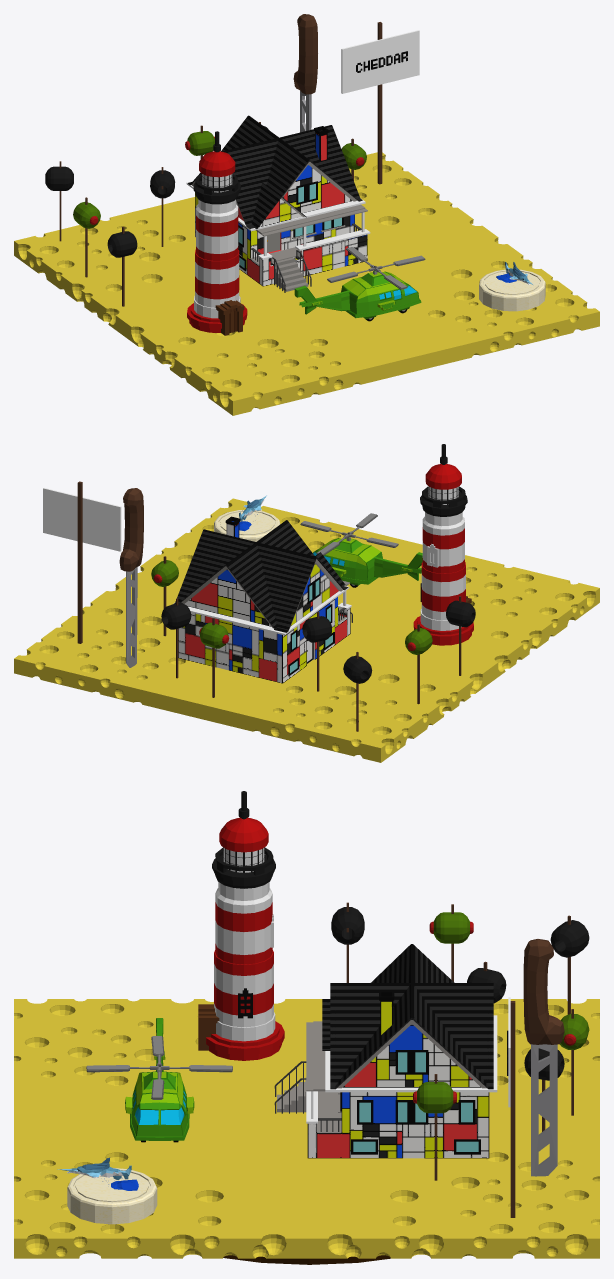
The picture shows the model from 3 angles, top to bottom: view 1: azimuth 30°, elevation 25°; view 2: azimuth 150°, elevation 25°; view 3: azimuth 270°, elevation 25°; orthographic projection. The views are drawn at different scales.
Parts seen in each view (by area): view 1: Cube.022, Cube.840, OBJRANDOM_LIGHTHOUSE, Cube.023, VEHICLES_HELICOPTER, Cylinder.016, Cube.024, Sphere.017, Sphere.016, Sphere.020, Sphere.018, Sphere.022 (+1 smaller); view 2: Cube.022, Cube.840, OBJRANDOM_LIGHTHOUSE, Cube.023, VEHICLES_HELICOPTER, Cube.024, Cylinder.016, Sphere.021, Sphere.020, Sphere.017, Sphere.016, Sphere.022 (+2 smaller); view 3: Cube.022, Cube.840, OBJRANDOM_LIGHTHOUSE, Cube.024, VEHICLES_HELICOPTER, Cylinder.016, Cube.023, Sphere.019, Sphere.016, Sphere.018, Sphere.017, Sphere.022 (+4 smaller).
Boxes of the visible parts, box(x1,y1,x2,y2) form: Cube.022: box(14, 152, 599, 415); Cube.840: box(186, 115, 370, 292); OBJRANDOM_LIGHTHOUSE: box(187, 131, 247, 335); Cube.023: box(341, 22, 419, 184); VEHICLES_HELICOPTER: box(294, 247, 425, 321); Cylinder.016: box(479, 269, 545, 311); Cube.024: box(293, 14, 317, 132); Sphere.017: box(107, 226, 137, 306); Sphere.016: box(45, 161, 73, 241); Sphere.020: box(150, 167, 175, 246); Sphere.018: box(73, 197, 100, 277); Sphere.022: box(185, 125, 214, 158); Cube.022: box(14, 498, 599, 762); Cube.840: box(173, 516, 352, 683); OBJRANDOM_LIGHTHOUSE: box(413, 444, 473, 645); Cube.023: box(43, 481, 121, 643); VEHICLES_HELICOPTER: box(300, 513, 422, 587); Cube.024: box(119, 488, 143, 667); Cylinder.016: box(214, 510, 280, 541); Sphere.021: box(161, 598, 191, 678); Sphere.020: box(302, 611, 331, 691); Sphere.017: box(446, 596, 475, 675); Sphere.016: box(343, 652, 372, 731); Sphere.022: box(199, 618, 229, 697); Cube.022: box(14, 999, 599, 1258); Cube.840: box(274, 944, 497, 1158); OBJRANDOM_LIGHTHOUSE: box(198, 791, 284, 1060); Cube.024: box(523, 939, 564, 1176); VEHICLES_HELICOPTER: box(86, 1018, 232, 1142); Cylinder.016: box(67, 1168, 157, 1224); Cube.023: box(507, 997, 515, 1217); Sphere.019: box(413, 1074, 456, 1180); Sphere.016: box(550, 915, 589, 1014); Sphere.018: box(429, 904, 473, 981); Sphere.017: box(331, 902, 364, 982); Sphere.022: box(560, 1009, 589, 1115).
Size of the model in its own units: 3917 by 2197 by 4000.
43 materials, 4 textured.
